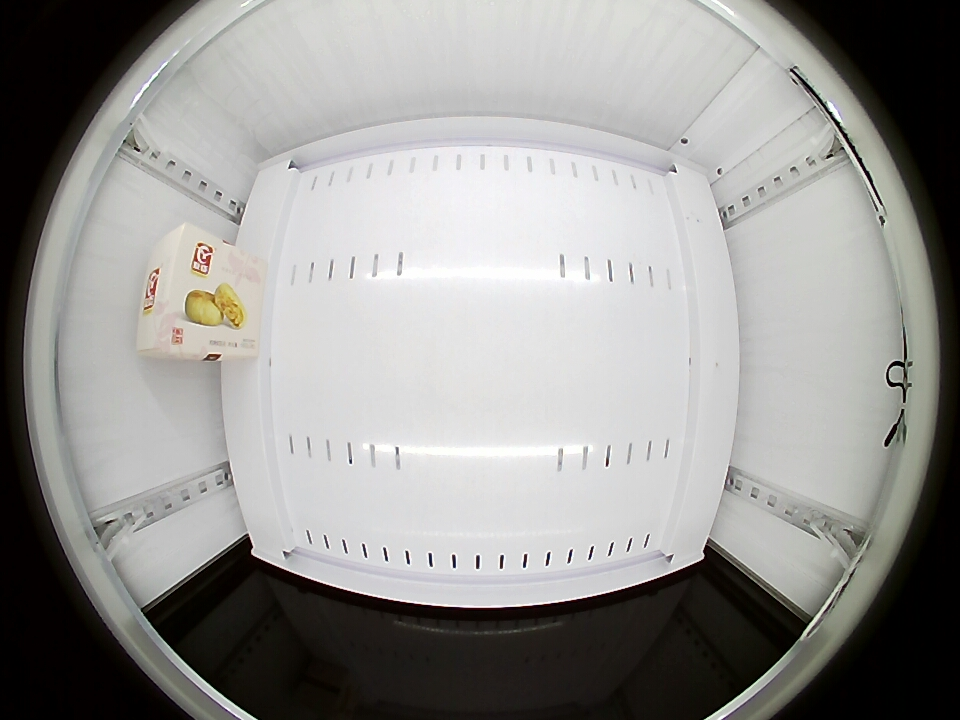rousongbing: (136, 223, 231, 361)
